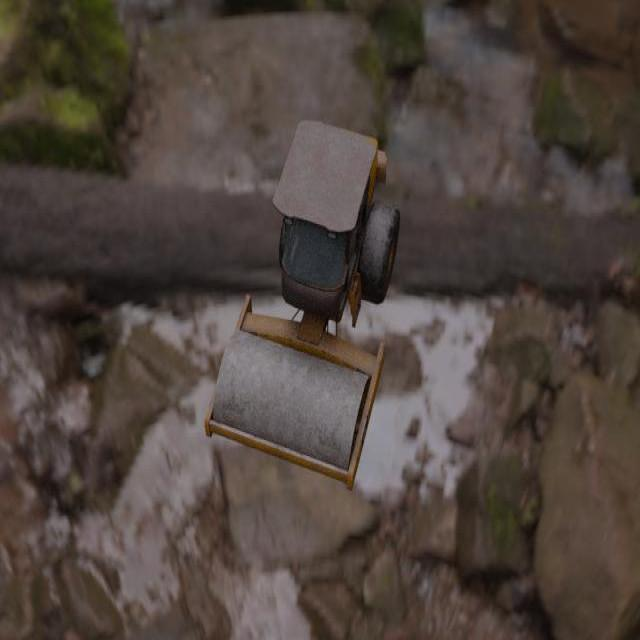Roller: (203, 120, 400, 491)
